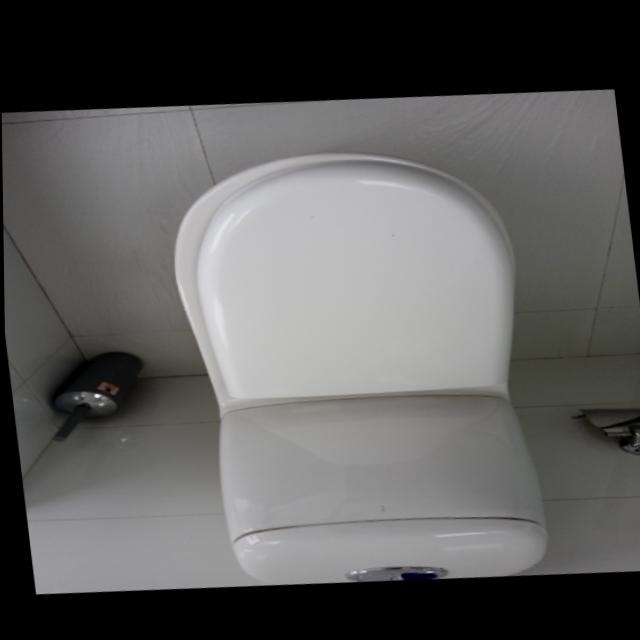toilet: (158, 121, 552, 603)
